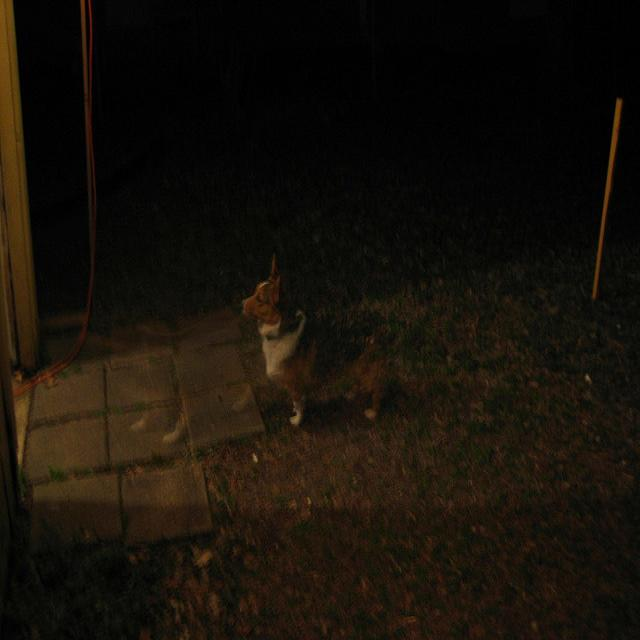Dog: (202, 239, 418, 451)
